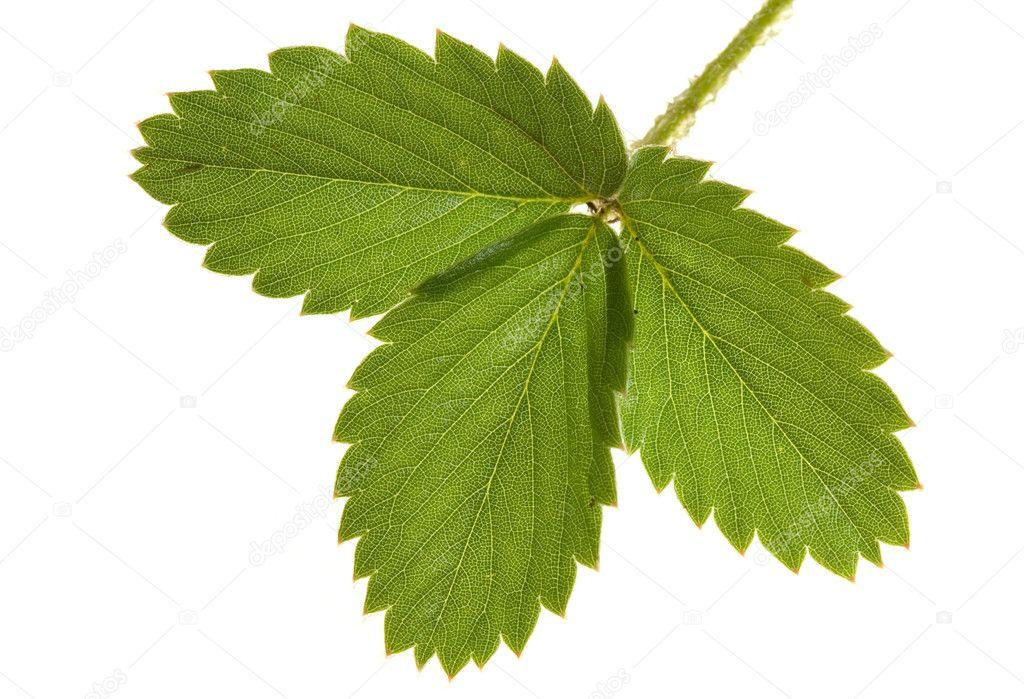Strawberry leaf: (295, 210, 647, 686), (124, 6, 637, 329), (593, 137, 936, 590)
